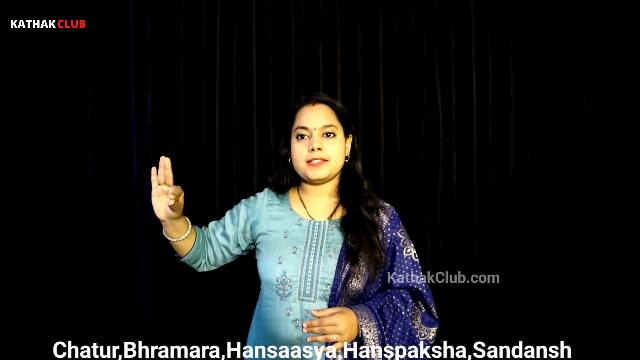hansaasya: (132, 146, 205, 242)
